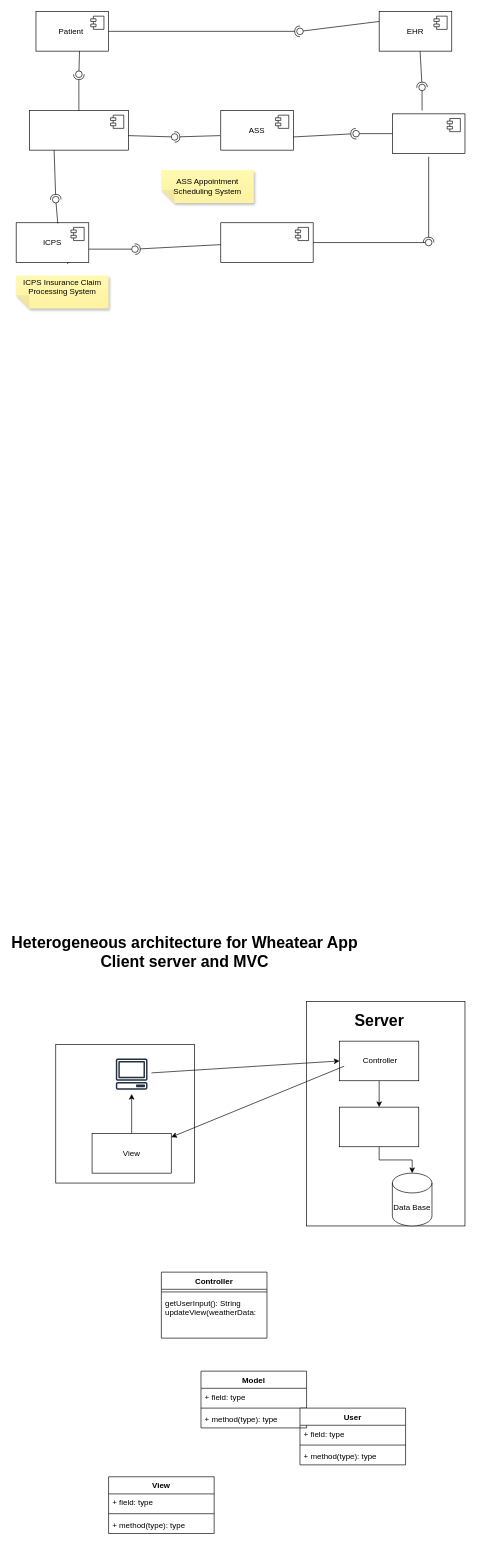
Some shapes in this 477 by 1547 pixel diagram are drawn without their labels. Each missing label, with the centre of its shape:
Billing System: pixel 266 242
Client: pixel 131 1074
Doctor: pixel 428 133
Patient portal: pixel 78 130
Prediction Model: pixel 379 1126
